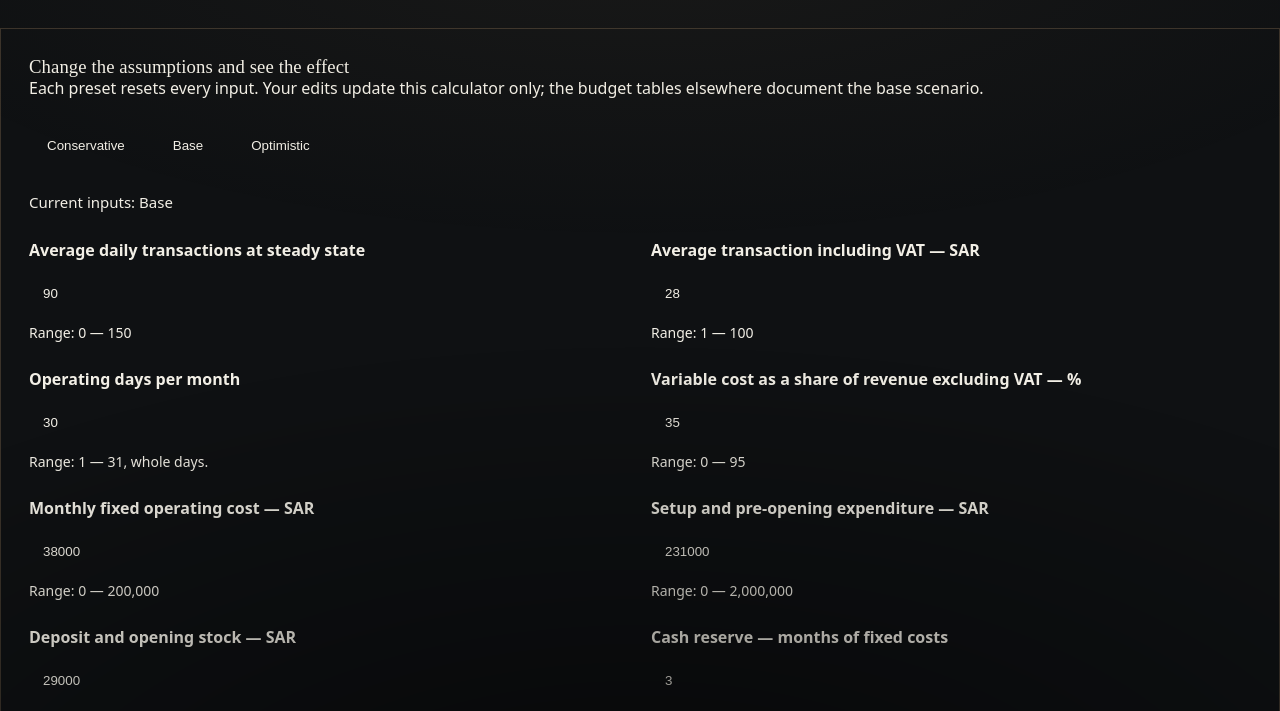
feasibility visitor flow › updates operating losses and cash needs when a visitor tests zero demand
Replace the text in the number field labelled "Average daily transactions at steady state" with "0": (329, 293) [29,269,629,317]
(page scrolled)
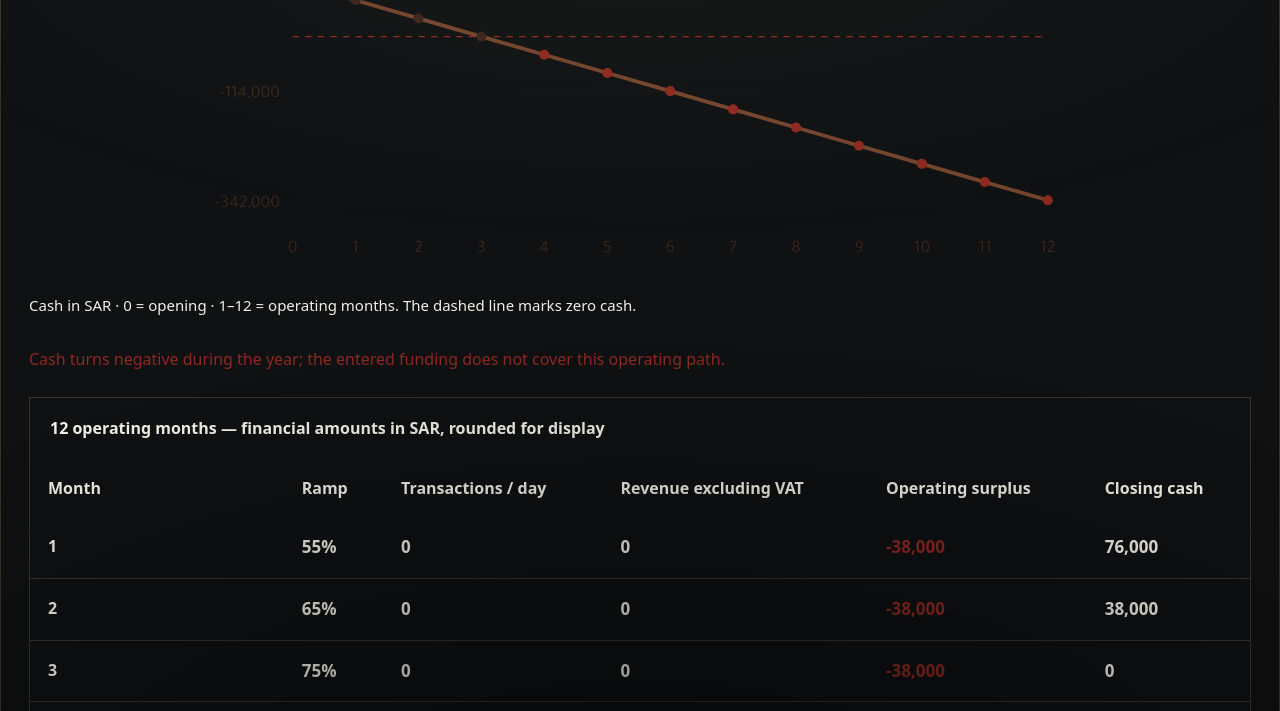
Check: the text "Cash turns negative" is shown, box [29,348,725,370]
